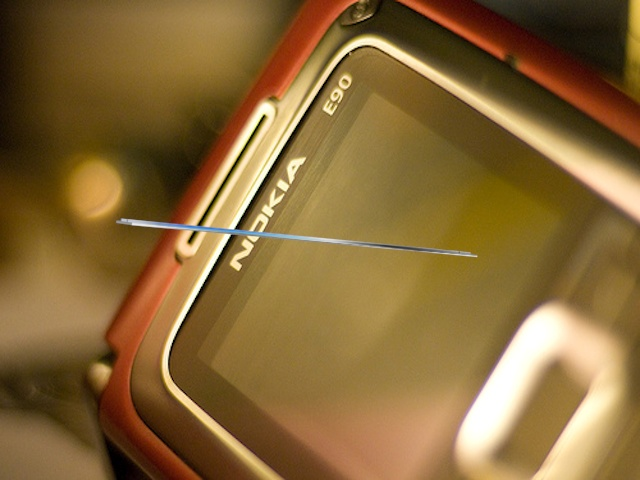ruler: (113, 208, 480, 264)
